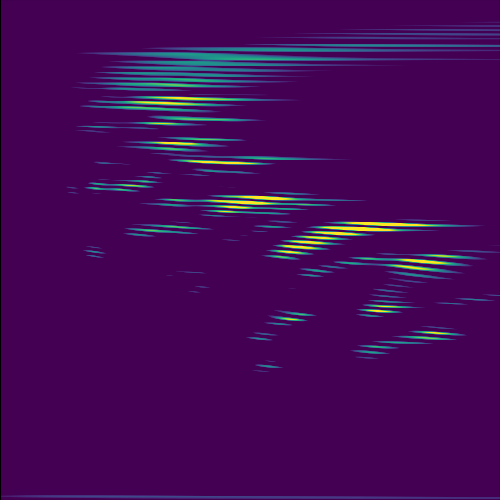semblance: (243, 216, 440, 262), (99, 93, 229, 128), (191, 188, 326, 221), (363, 251, 480, 289), (169, 153, 319, 172), (129, 135, 244, 153)
